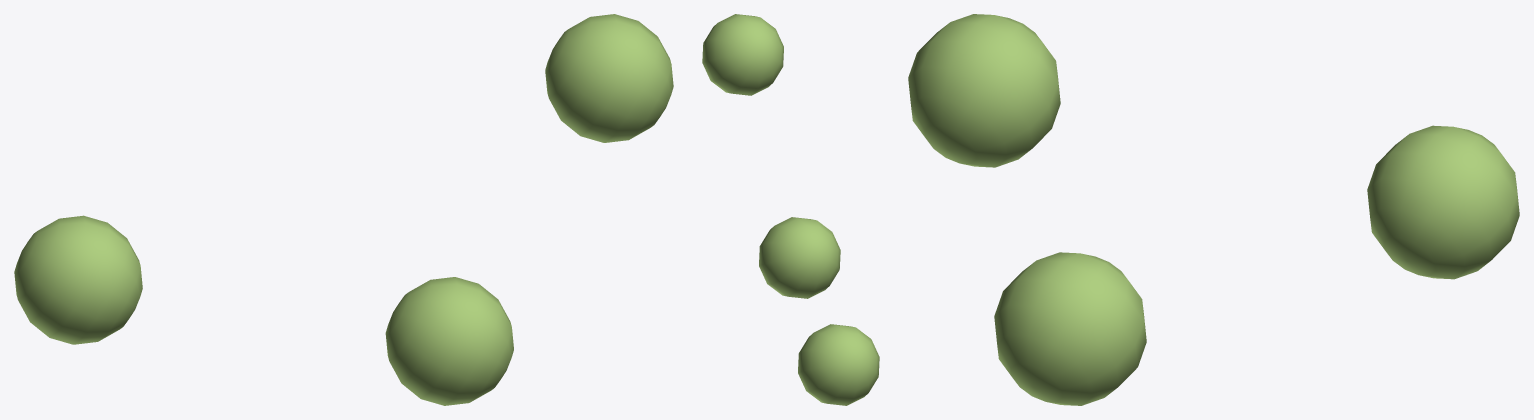
Rendered from superficial-parotid-nodes-l.glb.
3 renders of one model, left to right at view 1: azimuth 30°, elevation 25°; view 2: azimuth 150°, elevation 25°; view 3: azimuth 270°, elevation 25°, orthographic. The views are drawn at different scales.
Visible parts, largest first — view 1: Superficial parotid nodes.l; view 2: Superficial parotid nodes.l; view 3: Superficial parotid nodes.l.
Part boxes in pixels (x1=…): Superficial parotid nodes.l: x1=14, y1=14, x2=673, y2=405; Superficial parotid nodes.l: x1=702, y1=14, x2=879, y2=405; Superficial parotid nodes.l: x1=908, y1=14, x2=1519, y2=405.
Bounding box in the file's own units: 0.0105 × 0.00832 × 0.0102.
